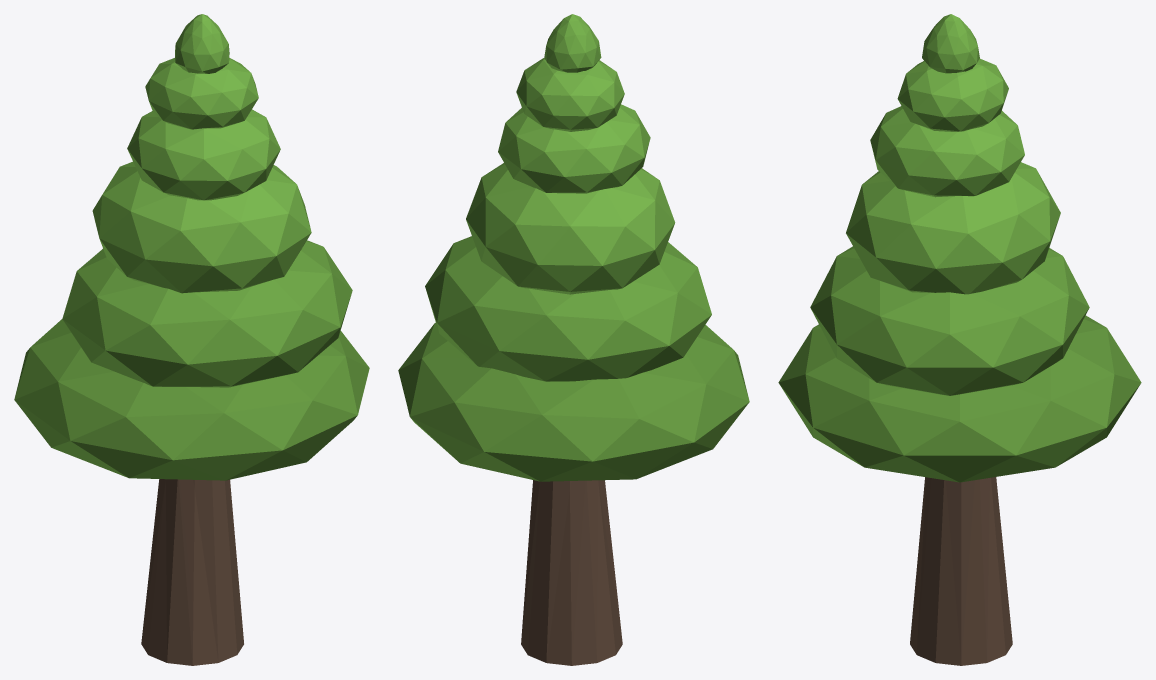
File: tree7a.glb
3 views of the same model, side by side, from view 1: azimuth 30°, elevation 25°; view 2: azimuth 150°, elevation 25°; view 3: azimuth 270°, elevation 25° (orthographic).
Parts seen in each view (by area): view 1: tree_0036; view 2: tree_0036; view 3: tree_0036.
Part boxes in pixels (x1,y1,x2,y2): tree_0036: [14, 14, 369, 665]; tree_0036: [398, 14, 749, 665]; tree_0036: [778, 14, 1141, 665].
Bounding box in the file's own units: 1.89 × 3.81 × 1.99.
